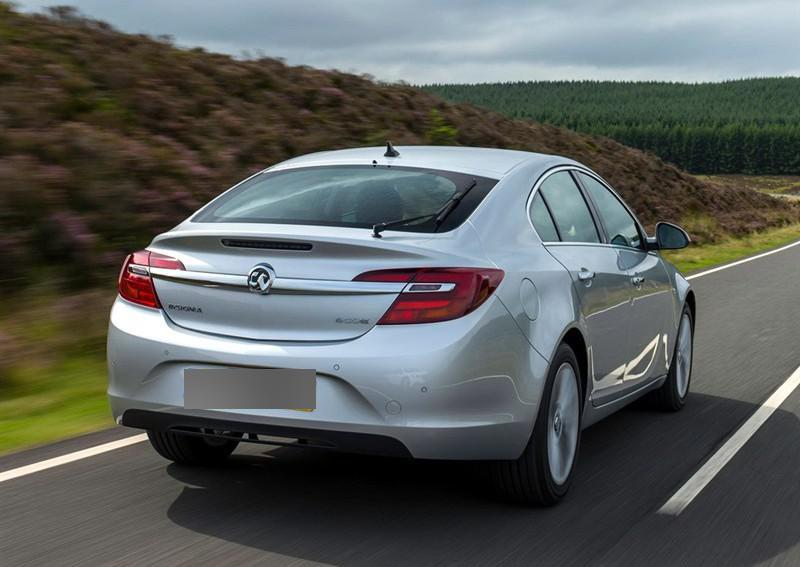Wagon: (106, 143, 698, 510)
